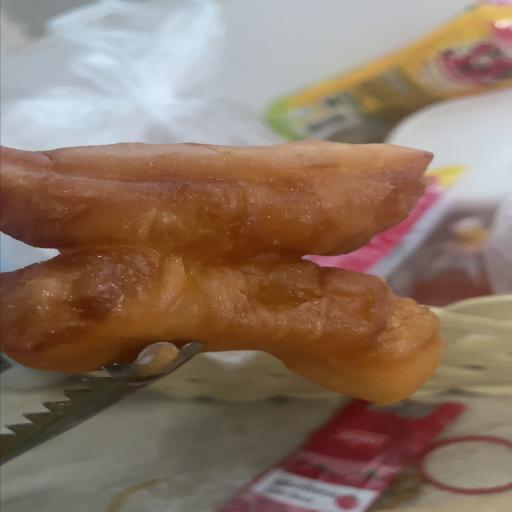street_burnt_good: (0, 140, 442, 402)
